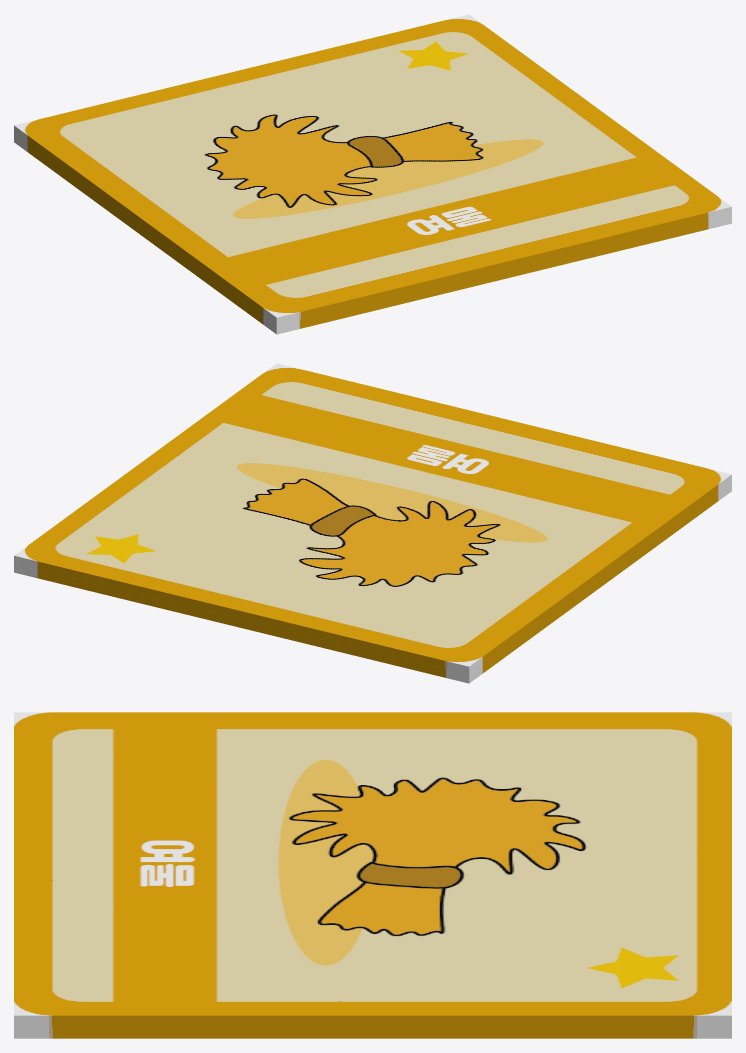
The model's file is FodderCard.fbx.
3 views of the same model, one above another, from view 1: azimuth 30°, elevation 25°; view 2: azimuth 150°, elevation 25°; view 3: azimuth 270°, elevation 25° (orthographic). The views are drawn at different scales.
Parts seen in each view (by area): view 1: Front, Back; view 2: Front, Back; view 3: Front, Back.
Part boxes in pixels (x1=…): Front: x1=14, y1=14, x2=731, y2=325; Back: x1=14, y1=134, x2=731, y2=334; Front: x1=14, y1=363, x2=731, y2=674; Back: x1=14, y1=483, x2=731, y2=683; Front: x1=14, y1=712, x2=731, y2=1027; Back: x1=14, y1=1027, x2=731, y2=1038.
Bounding box in the file's own units: 4.06 × 0.1436 × 4.06.
